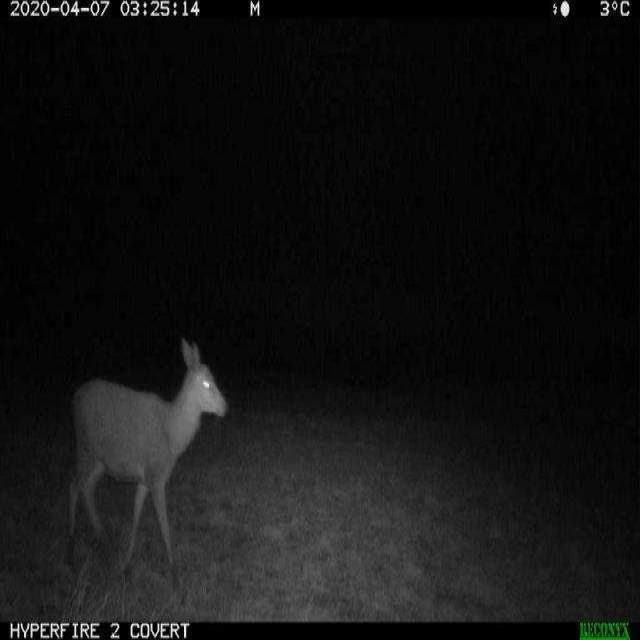deer: (47, 309, 245, 599)
